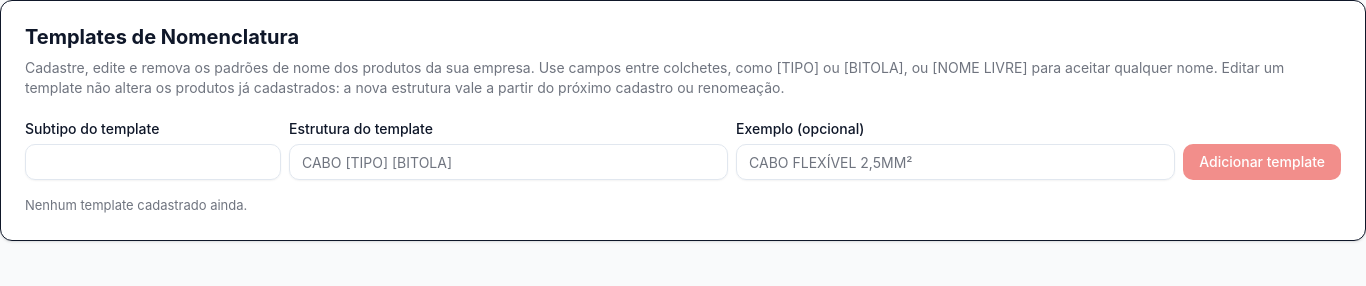
it: TemplatesNomenclaturaSection › cadastro 409: mostra a mensagem do servidor e mantém os inputs
Check: the text "Nenhum template cadastrado ainda." is shown, box [25,197,247,213]
Type "X1" into the field labelled "Subtipo do template" at [153, 162], box [25,144,281,180]
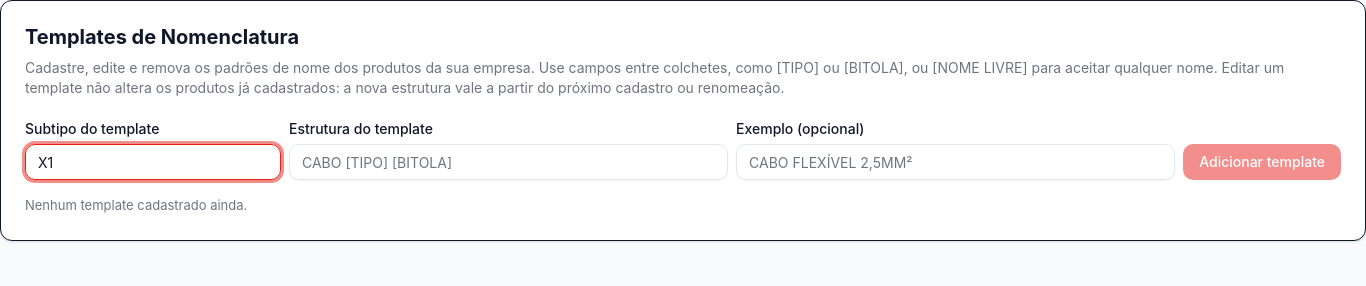
Type "SEM TOKEN" into the field labelled "Estrutura do template" at [509, 162], box [289,144,728,180]
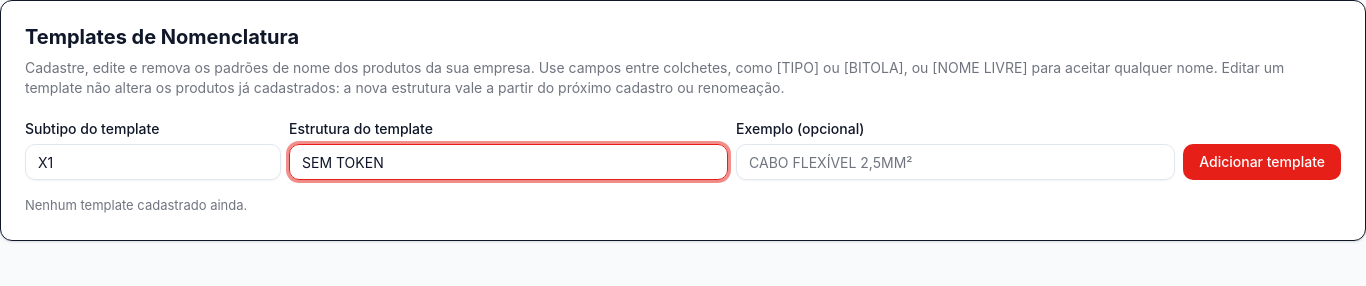
Click the button "Adicionar template" at [1262, 162], box [1183,144,1341,180]
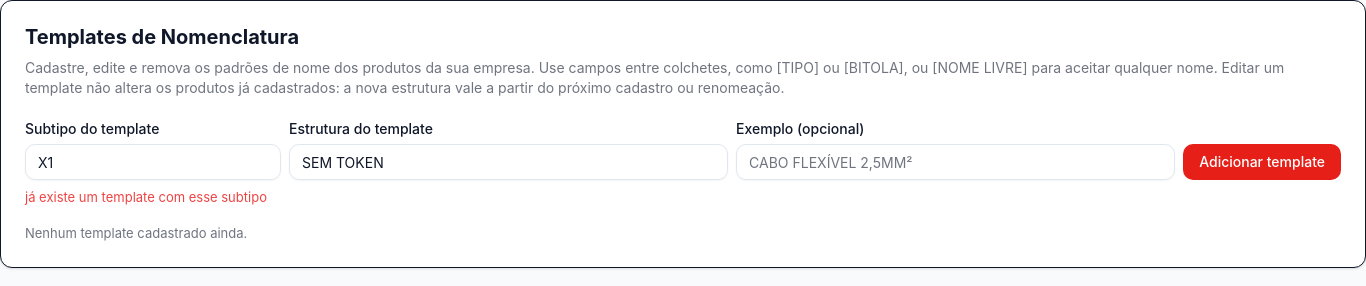
Check: the message reads "já existe um template com esse subtipo", box [25,189,267,205]
